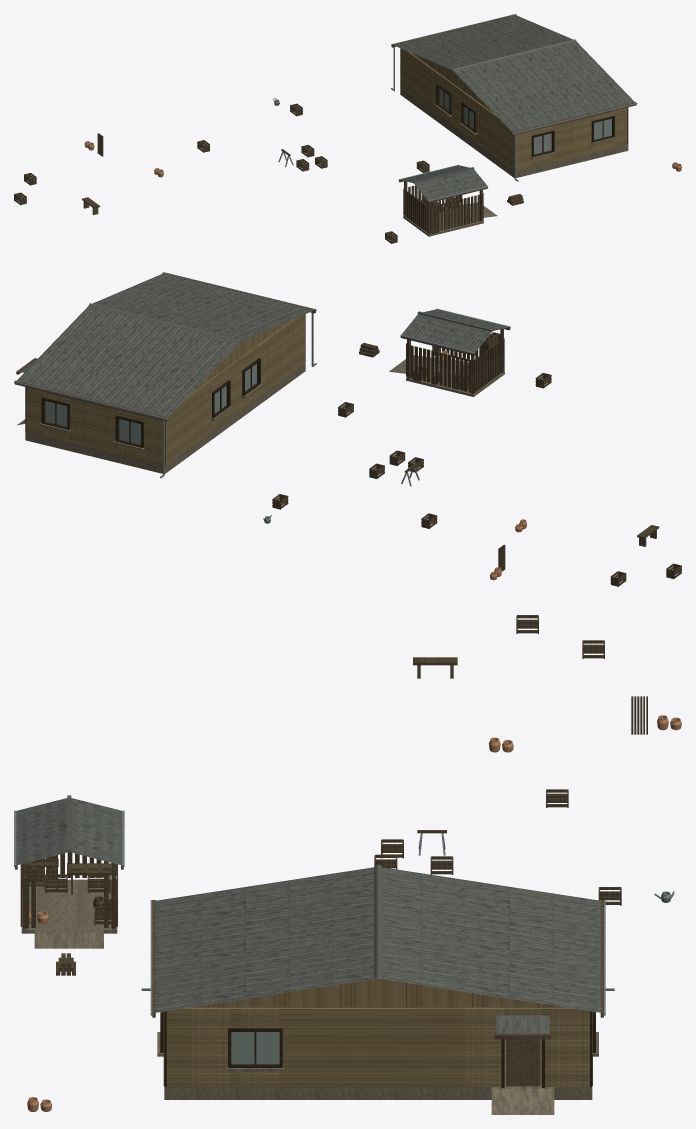
The picture shows the model from 3 angles, top to bottom: view 1: azimuth 30°, elevation 25°; view 2: azimuth 150°, elevation 25°; view 3: azimuth 270°, elevation 25°; orthographic projection. The views are drawn at different scales.
Parts seen in each view (by area): view 1: H03_CHAPAS_ONDULADAS, H03_FUNDOS, H03_LATERAIS, H03_ARRANJOS_RIPAS, H03_FUNDACAO, H03_ARRANJOS_COBERTURA, H03_VIDROS_RECUADOS, H03_CAIXILHOS, H03_OITOES, H03_BEIRAIS, H03_ARRANJOS_BASE, H03_CALHA (+1 smaller); view 2: H03_CHAPAS_ONDULADAS, H03_FUNDOS, H03_LATERAIS, H03_ARRANJOS_RIPAS, H03_FUNDACAO, H03_ARRANJOS_COBERTURA, H03_VIDROS_RECUADOS, H03_CAIXILHOS, H03_OITOES, H03_BEIRAIS, H03_ARRANJOS_BASE, H03_CUMEEIRA (+1 smaller); view 3: H03_CHAPAS_ONDULADAS, H03_FACHADA, H03_ARRANJOS_COBERTURA, H03_OITOES, H03_FUNDACAO, H03_ARRANJOS_BASE, H03_ARRANJOS_RIPAS, H03_PORTA_FOLHA, H03_RAMPA, H03_VIDROS_RECUADOS, H03_ARRANJOS_RAMPA, H03_ALPENDRE_COBERTURA (+3 smaller).
Boxes of the visible parts, x1,y1,x2,y2 form: H03_CHAPAS_ONDULADAS: (393,15,634,132); H03_FUNDOS: (400,48,514,170); H03_LATERAIS: (516,107,627,171); H03_ARRANJOS_RIPAS: (403,185,483,233); H03_FUNDACAO: (400,88,628,177); H03_ARRANJOS_COBERTURA: (400,165,487,200); H03_VIDROS_RECUADOS: (439,88,611,154); H03_CAIXILHOS: (436,84,614,156); H03_OITOES: (412,53,493,112); H03_BEIRAIS: (391,14,636,135); H03_ARRANJOS_BASE: (403,204,483,236); H03_CALHA: (391,14,637,134); H03_CHAPAS_ONDULADAS: (17,273,313,417); H03_FUNDOS: (165,314,305,465); H03_LATERAIS: (26,387,162,465); H03_ARRANJOS_RIPAS: (406,334,504,392); H03_FUNDACAO: (25,363,305,473); H03_ARRANJOS_COBERTURA: (401,309,509,352); H03_VIDROS_RECUADOS: (45,363,256,444); H03_CAIXILHOS: (41,358,260,447); H03_OITOES: (191,320,290,393); H03_BEIRAIS: (14,272,315,421); H03_ARRANJOS_BASE: (406,357,504,396); H03_CUMEEIRA: (88,303,241,342); H03_CHAPAS_ONDULADAS: (155,867,601,1012); H03_FACHADA: (166,1007,589,1087); H03_ARRANJOS_COBERTURA: (16,798,122,865); H03_OITOES: (190,978,565,1007); H03_FUNDACAO: (164,1032,592,1099); H03_ARRANJOS_BASE: (21,879,117,933); H03_ARRANJOS_RIPAS: (20,852,117,927); H03_PORTA_FOLHA: (506,1039,540,1086); H03_RAMPA: (491,1089,554,1114); H03_VIDROS_RECUADOS: (231,1032,279,1064); H03_ARRANJOS_RAMPA: (34,932,103,948); H03_ALPENDRE_COBERTURA: (496,1015,549,1033).
Size of the model in its own units: 34.81 by 4.28 by 20.26.
Materials: 11 (9 with a texture image).
